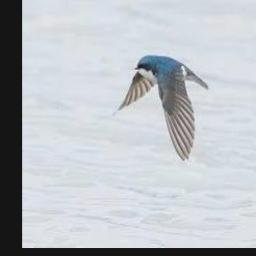Swallow: (115, 54, 210, 159)
